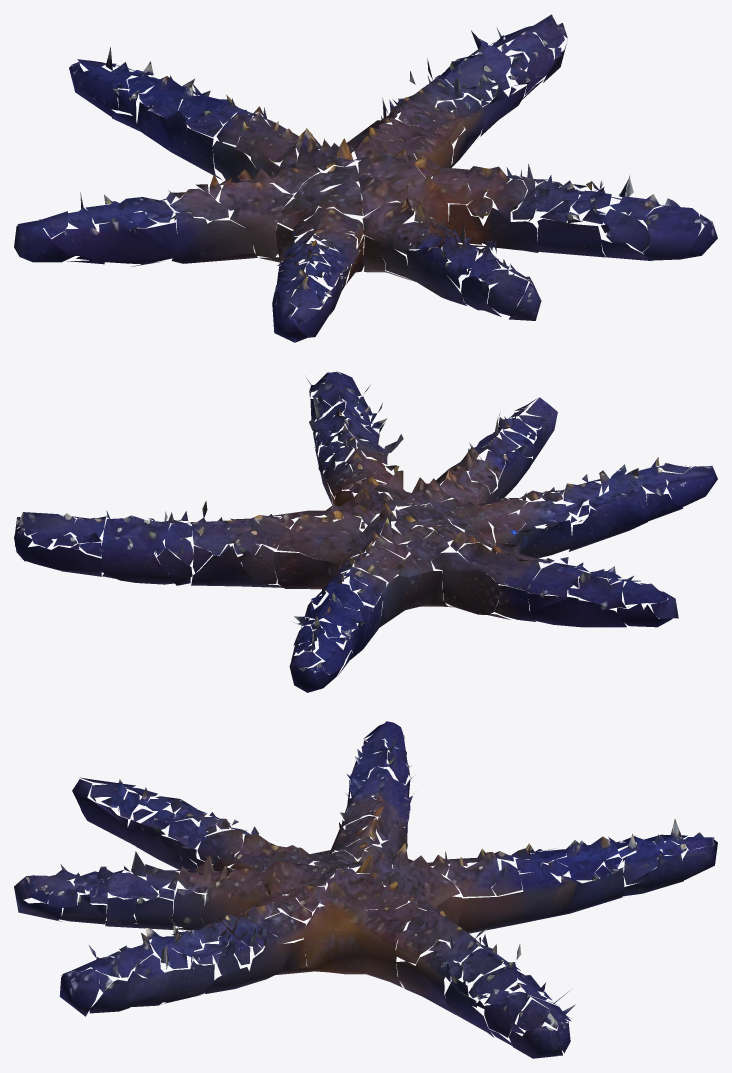
Rendered from star_huge.glb.
3 views of the same model, one above another, from view 1: azimuth 30°, elevation 25°; view 2: azimuth 150°, elevation 25°; view 3: azimuth 270°, elevation 25° (orthographic). The views are drawn at different scales.
Parts seen in each view (by area): view 1: tripo_node_d457640d-9e34-4799-be6e-0b36bb1aa9da; view 2: tripo_node_d457640d-9e34-4799-be6e-0b36bb1aa9da; view 3: tripo_node_d457640d-9e34-4799-be6e-0b36bb1aa9da.
Part boxes in pixels (box(x1,y1,x2,y2)): tripo_node_d457640d-9e34-4799-be6e-0b36bb1aa9da: box(14, 14, 717, 342); tripo_node_d457640d-9e34-4799-be6e-0b36bb1aa9da: box(14, 371, 717, 692); tripo_node_d457640d-9e34-4799-be6e-0b36bb1aa9da: box(14, 721, 717, 1058).
Size of the model in its own units: 0.9952 by 0.1543 by 0.983.
1 material, 1 textured.
